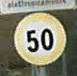limite 50: (10, 11, 68, 67)
